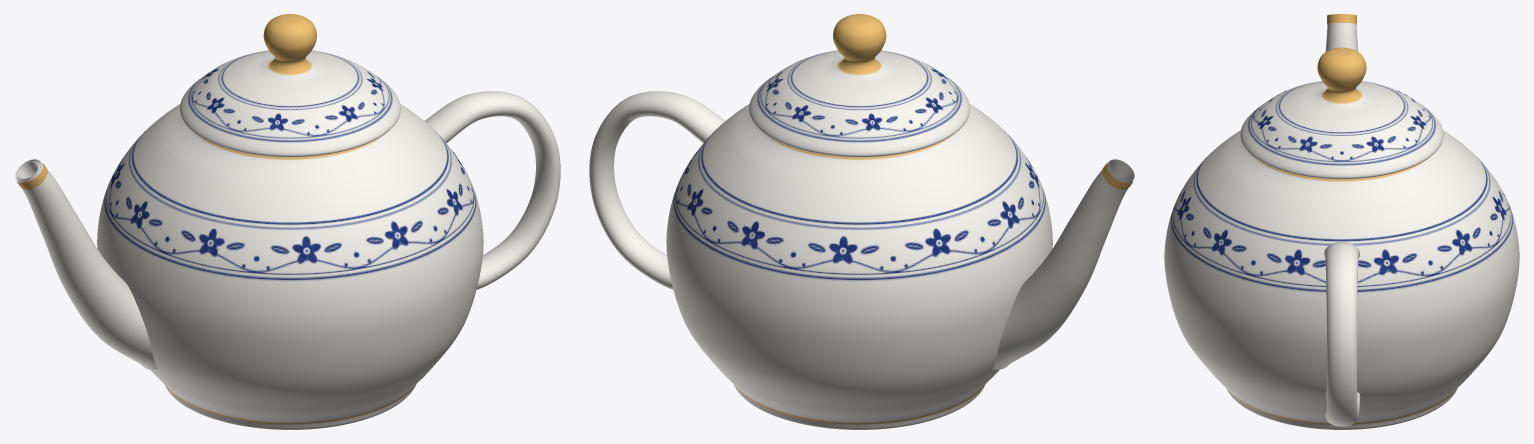
The model's file is teapot.glb.
3 renders of one model, left to right at view 1: azimuth 30°, elevation 25°; view 2: azimuth 150°, elevation 25°; view 3: azimuth 270°, elevation 25°, orthographic. The views are drawn at different scales.
Visible parts, largest first — view 1: teapot-body, teapot-lid, teapot-spout, teapot-handle; view 2: teapot-body, teapot-lid, teapot-spout, teapot-handle; view 3: teapot-body, teapot-lid, teapot-handle, teapot-spout.
Boxes of the visible parts, x1=… form: teapot-body: x1=97, y1=104, x2=483, y2=429; teapot-lid: x1=179, y1=14, x2=400, y2=157; teapot-spout: x1=15, y1=159, x2=157, y2=369; teapot-handle: x1=424, y1=91, x2=560, y2=289; teapot-body: x1=666, y1=104, x2=1052, y2=429; teapot-lid: x1=749, y1=14, x2=970, y2=157; teapot-spout: x1=992, y1=159, x2=1134, y2=369; teapot-handle: x1=589, y1=91, x2=725, y2=289; teapot-body: x1=1164, y1=130, x2=1519, y2=429; teapot-lid: x1=1240, y1=47, x2=1443, y2=179; teapot-handle: x1=1323, y1=241, x2=1360, y2=426; teapot-spout: x1=1325, y1=23, x2=1358, y2=51.
Bounding box in the file's own units: 0.276 × 0.1753 × 0.1708.
Materials: 4 (2 with a texture image).
